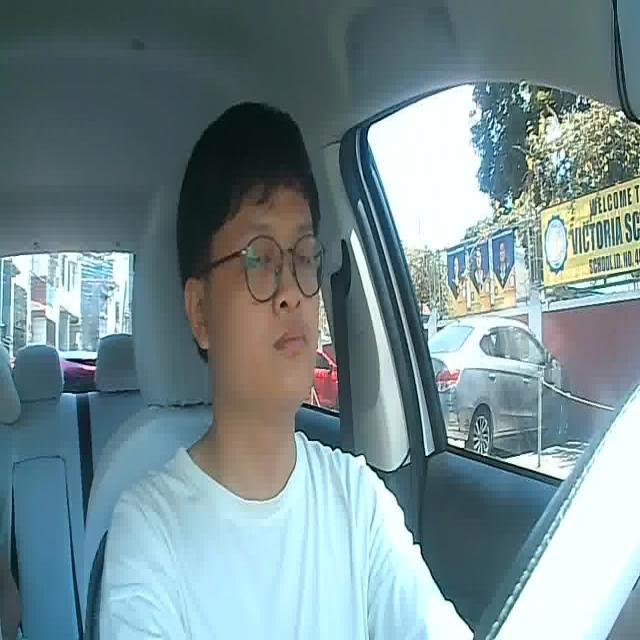Attentive: (171, 98, 318, 410)
Eye-Close: (243, 246, 275, 272), (291, 245, 315, 272)
Normal: (272, 324, 310, 359)
